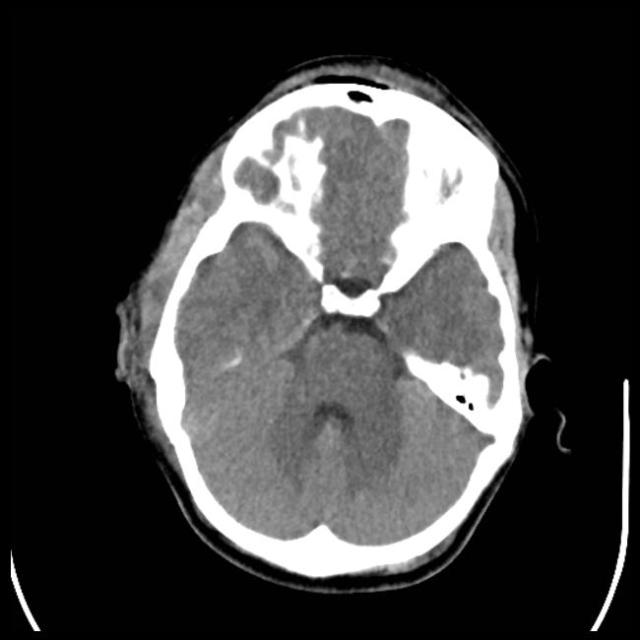lesion: (114, 61, 546, 590)
